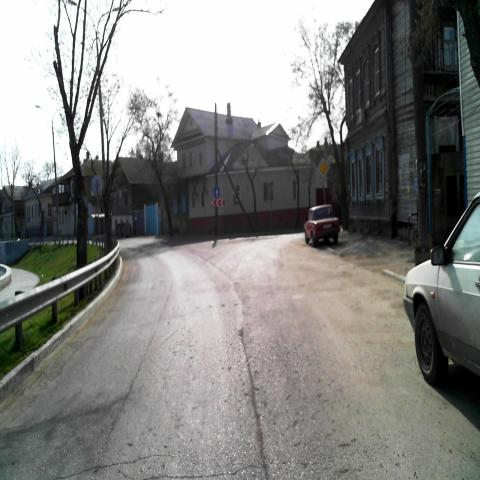2_1: (317, 158, 329, 178)
5_5: (214, 187, 220, 197)
